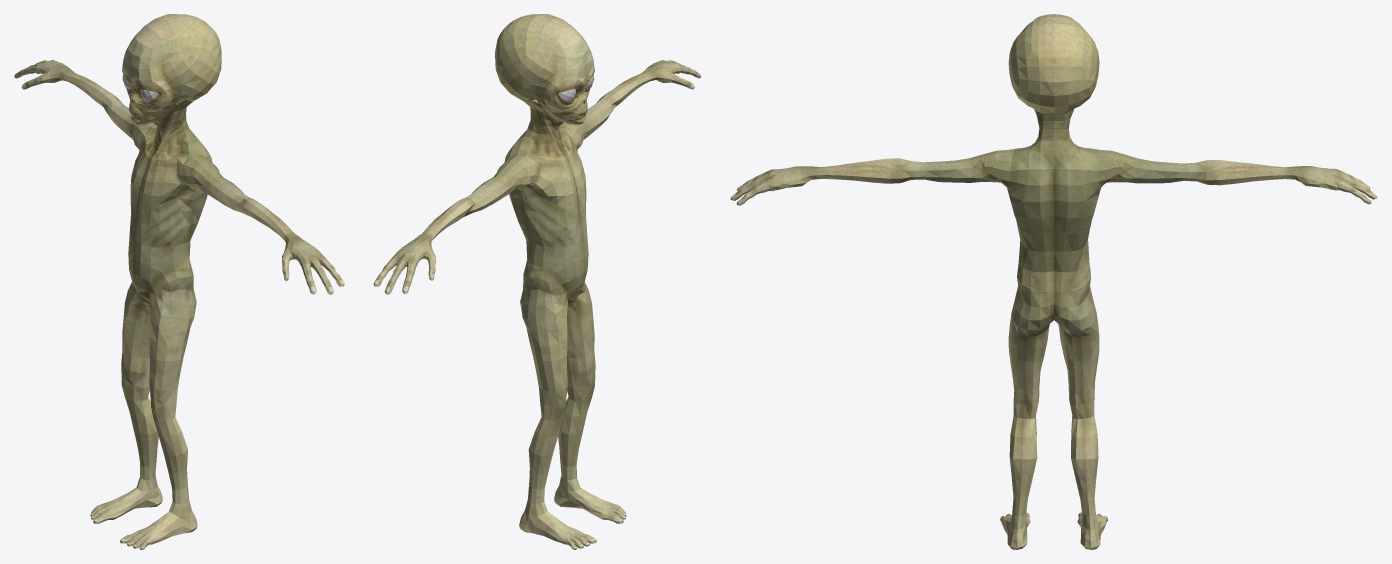
File: 23I57U8W8KLHW71MLH27QMPB7.fbx
3 views of the same model, side by side, from view 1: azimuth 30°, elevation 25°; view 2: azimuth 150°, elevation 25°; view 3: azimuth 270°, elevation 25° (orthographic). The views are drawn at different scales.
Parts seen in each view (by area): view 1: Object_Alien8_AlbedoTransparency.jpg; view 2: Object_Alien8_AlbedoTransparency.jpg; view 3: Object_Alien8_AlbedoTransparency.jpg.
Part boxes in pixels (x1,y1,x2,y2): Object_Alien8_AlbedoTransparency.jpg: (14,14,344,549); Object_Alien8_AlbedoTransparency.jpg: (373,14,701,549); Object_Alien8_AlbedoTransparency.jpg: (730,14,1377,549).
Size of the model in its own units: 0.522 by 2.26 by 2.5.
